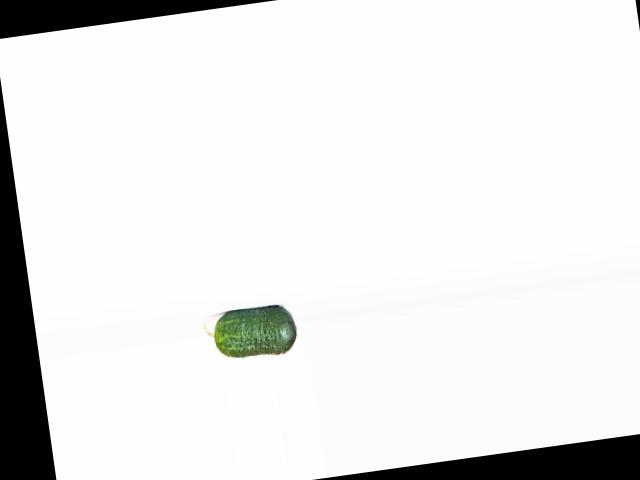cucumber: (201, 301, 298, 365)
